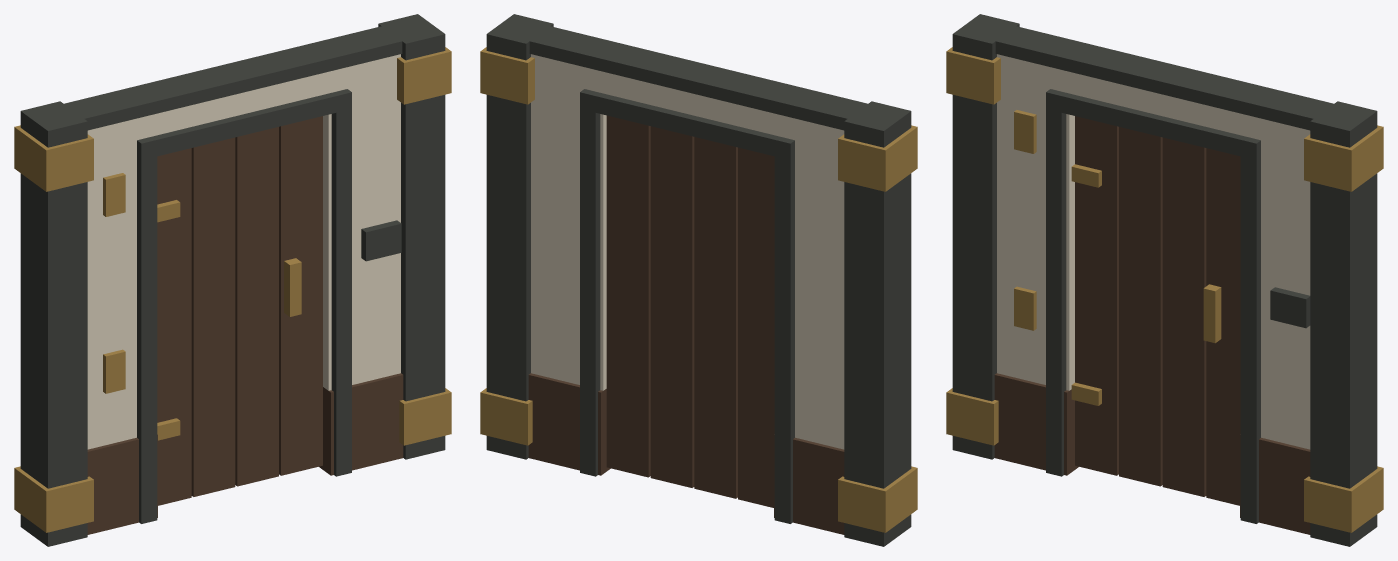
Rendered from wall_door.glb.
3 renders of one model, left to right at view 1: azimuth 30°, elevation 25°; view 2: azimuth 150°, elevation 25°; view 3: azimuth 330°, elevation 25°, orthographic.
Visible parts, largest first — view 1: wall_door; view 2: wall_door; view 3: wall_door.
Part boxes in pixels (x1,y1,x2,y2): wall_door: (14,14,451,546); wall_door: (480,14,917,546); wall_door: (946,14,1383,546).
Size of the model in its own units: 2.04 by 2 by 0.28.
